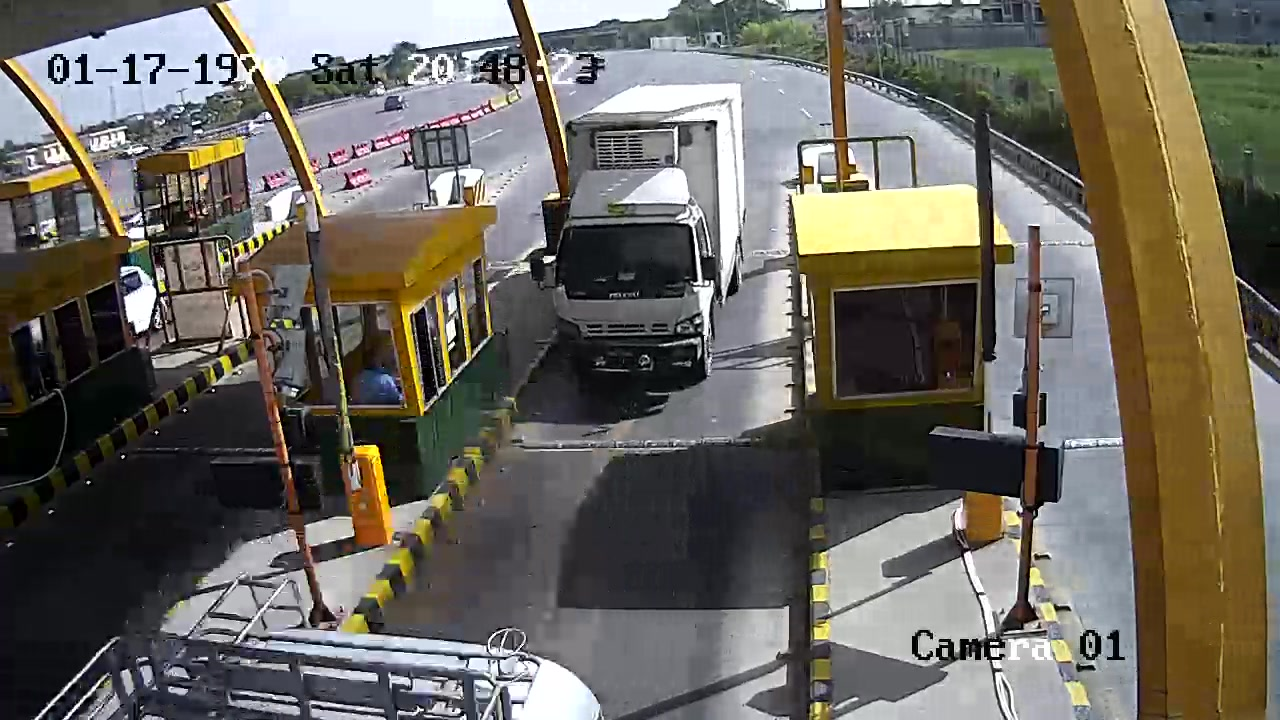F5: (543, 71, 749, 390)
